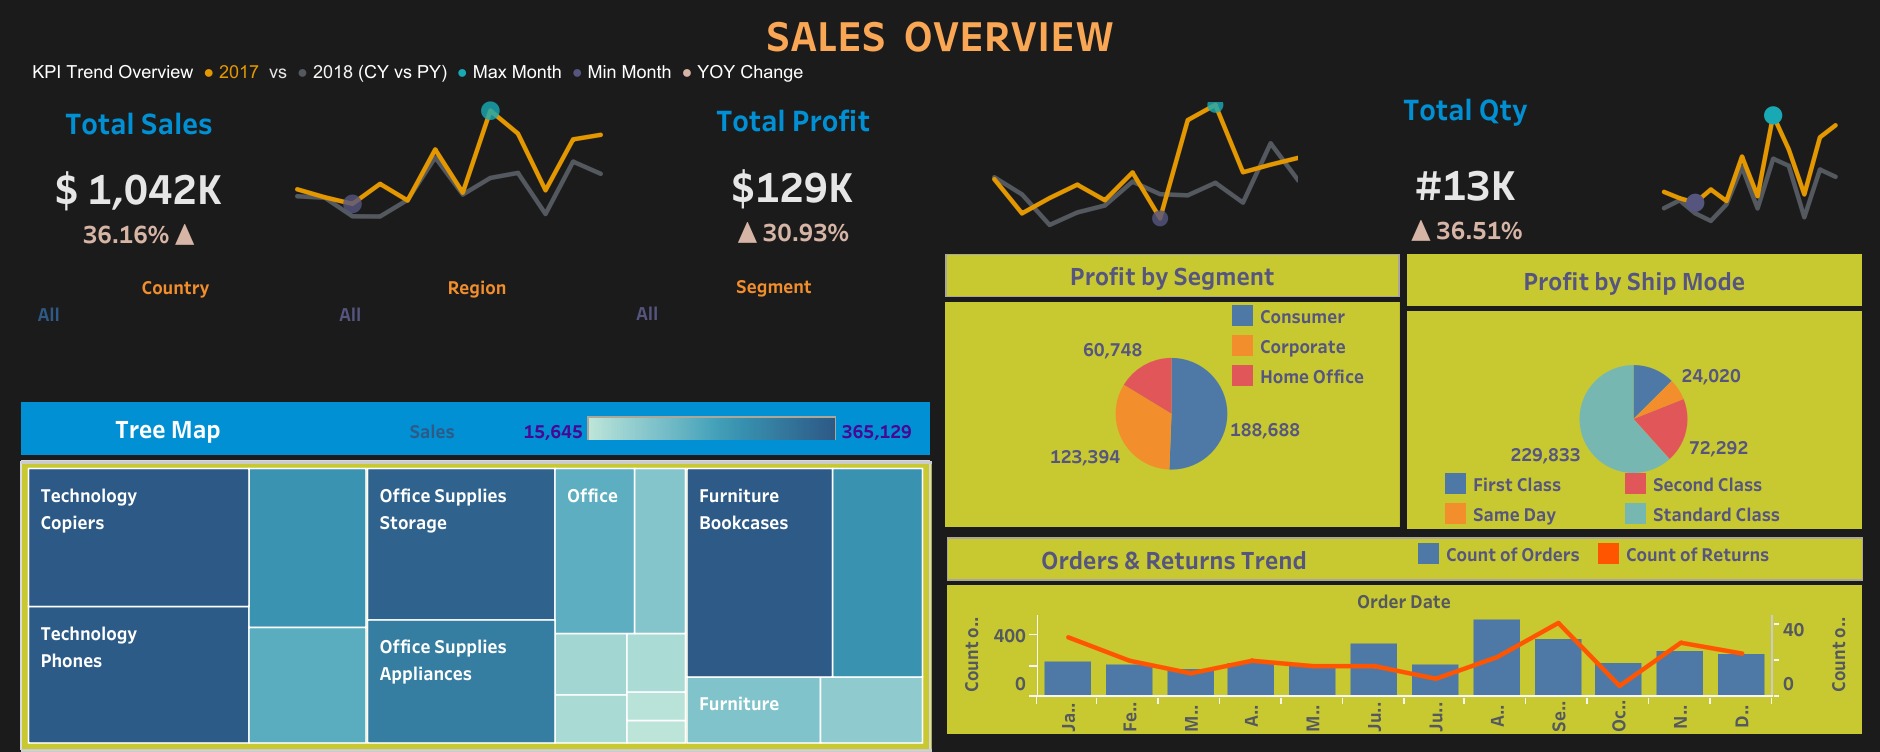

This screenshot's page, from the dashboard's own definition file:
{"tool":"tableau","page":{"name":"Sales Dashboard","canvas":[1000,1000],"units":"permille","ordinal":0},"visuals":[{"type":"text","box":[7.5,15,985,57.3]},{"type":"text","box":[15,71,602.8,48.6]},{"type":"worksheet","title":"Qty KPI","mark":"Automatic","box":[689.4,112.2,179.6,222.4]},{"type":"worksheet","title":"Sales Sparkline","mark":"Automatic","rows":["Calculation_465841123697496076"],"cols":["Order Date"],"box":[143.1,127.1,189.9,201.9]},{"type":"worksheet","title":"Profit KPI","mark":"Automatic","box":[334,129,175.9,201.9]},{"type":"worksheet","title":"Qty Sparkline","mark":"Automatic","rows":["min max profit (copy)_465841123719139342"],"cols":["Order Date"],"box":[851.3,132.7,148.7,198.1]},{"type":"worksheet","title":"Sales KPI","mark":"Automatic","box":[5.6,134.6,137.4,198.1]},{"type":"worksheet","title":"Profit Sparkline","mark":"Automatic","rows":["min max month (copy)_465841123716083725"],"cols":["Order Date"],"box":[513.6,136.4,175.9,188.8]},{"type":"worksheet","title":"Profit by Segment","mark":"Pie","box":[502.3,336.4,241.3,362.6]},{"type":"worksheet","title":"Profit by Ship Mode","mark":"Pie","box":[748.4,336.4,241.3,364.5]},{"type":"filter","title":"Profit by Segment","param":"[federated.1b0n68r0sbg0bw1daht8x10gc04a].[none:Segment:nk]","box":[336.8,358.9,149.7,164.5]},{"type":"filter","title":"Tree Map","param":"[federated.1b0n68r0sbg0bw1daht8x10gc04a].[none:Country:nk]","box":[18.7,360.8,149.7,145.8]},{"type":"filter","title":"Profit by Segment","param":"[federated.1b0n68r0sbg0bw1daht8x10gc04a].[none:Region:nk]","box":[178.7,360.8,149.7,170.1]},{"type":"legend","title":"Profit by Segment","param":"[federated.1b0n68r0sbg0bw1daht8x10gc04a].[none:Segment:nk]","box":[652.3,398.1,108.4,115.9]},{"type":"worksheet","title":"Tree Map","mark":"Automatic","box":[10.3,534.6,485.1,465.4]},{"type":"legend","title":"Tree Map","param":"[federated.1b0n68r0sbg0bw1daht8x10gc04a].[sum:Sales:qk]","box":[217.8,545.8,271,37.4]},{"type":"worksheet","title":"Orders & Returns Trend","mark":"Automatic","rows":["Orders_37C0AF195DD848B69D545BF93F3E2070","Returns_5CF7C0A17D7748A48A362F273FE588DF"],"cols":["Order Date"],"box":[499.9,706.1,492.7,278.9]},{"type":"legend","title":"Orders & Returns Trend","param":"[federated.1b0n68r0sbg0bw1daht8x10gc04a].[:Measure Names]","box":[751.4,715.9,234.6,44.9]}]}

Visuals, with their boxes on the dashboard's canvas, which has no fixed pixel size, in thousandths of its width and height (x1, y1, x2, y2). These are canvas units, not pixel positions in the 1880x752 screenshot, which may show the page scaled, cropped or inside an application window:
text: x1=8, y1=15, x2=992, y2=72
text: x1=15, y1=71, x2=618, y2=120
"Qty KPI" worksheet: x1=689, y1=112, x2=869, y2=335
"Sales Sparkline" worksheet: x1=143, y1=127, x2=333, y2=329
"Profit KPI" worksheet: x1=334, y1=129, x2=510, y2=331
"Qty Sparkline" worksheet: x1=851, y1=133, x2=1000, y2=331
"Sales KPI" worksheet: x1=6, y1=135, x2=143, y2=333
"Profit Sparkline" worksheet: x1=514, y1=136, x2=690, y2=325
"Profit by Segment" worksheet (Pie marks): x1=502, y1=336, x2=744, y2=699
"Profit by Ship Mode" worksheet (Pie marks): x1=748, y1=336, x2=990, y2=701
"Profit by Segment" filter: x1=337, y1=359, x2=486, y2=523
"Tree Map" filter: x1=19, y1=361, x2=168, y2=507
"Profit by Segment" filter: x1=179, y1=361, x2=328, y2=531
"Profit by Segment" legend: x1=652, y1=398, x2=761, y2=514
"Tree Map" worksheet: x1=10, y1=535, x2=495, y2=1000
"Tree Map" legend: x1=218, y1=546, x2=489, y2=583
"Orders & Returns Trend" worksheet: x1=500, y1=706, x2=993, y2=985
"Orders & Returns Trend" legend: x1=751, y1=716, x2=986, y2=761
